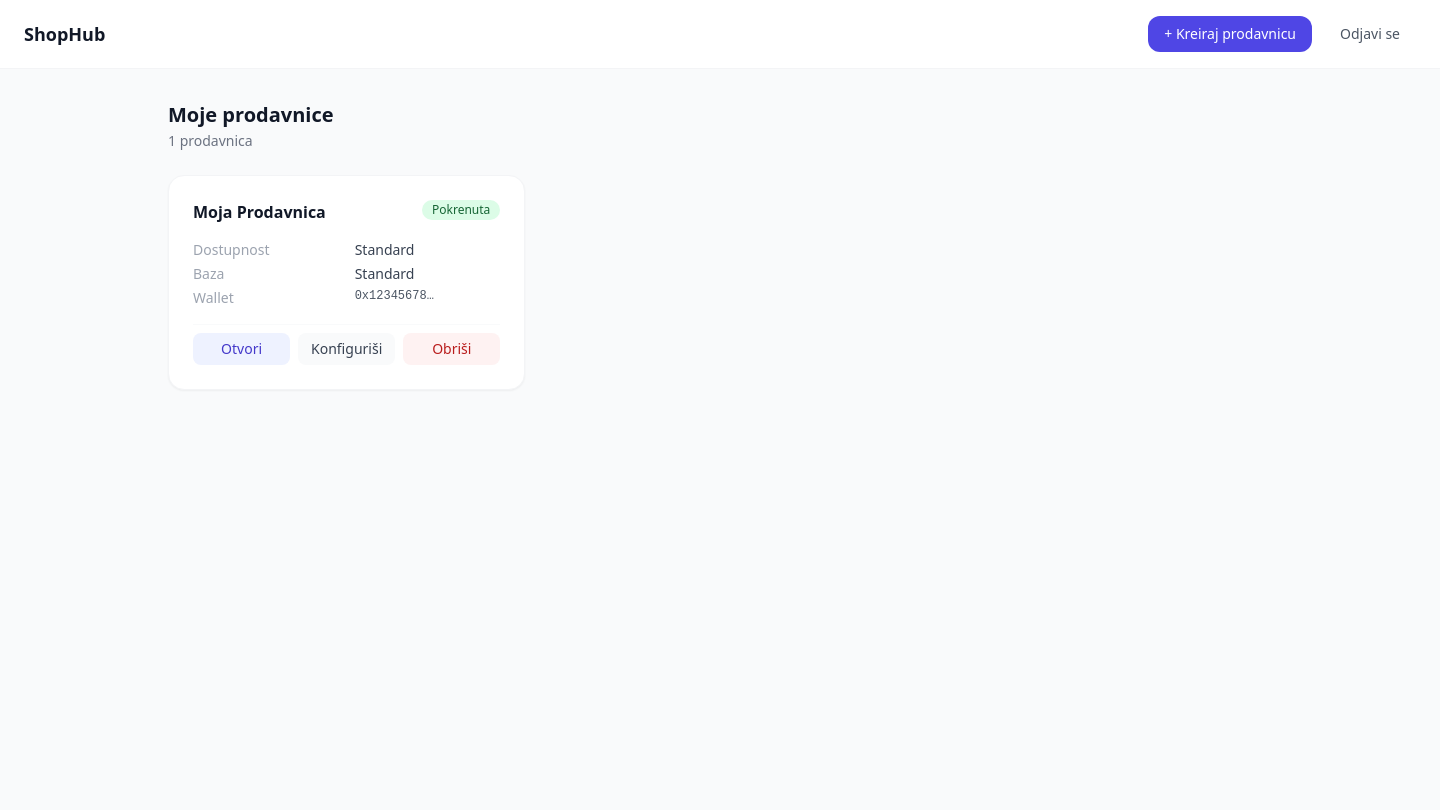
Test case: DashboardPage › opens delete modal when Obriši is clicked
Click the button "Obriši": (452, 349) [403, 333, 500, 365]
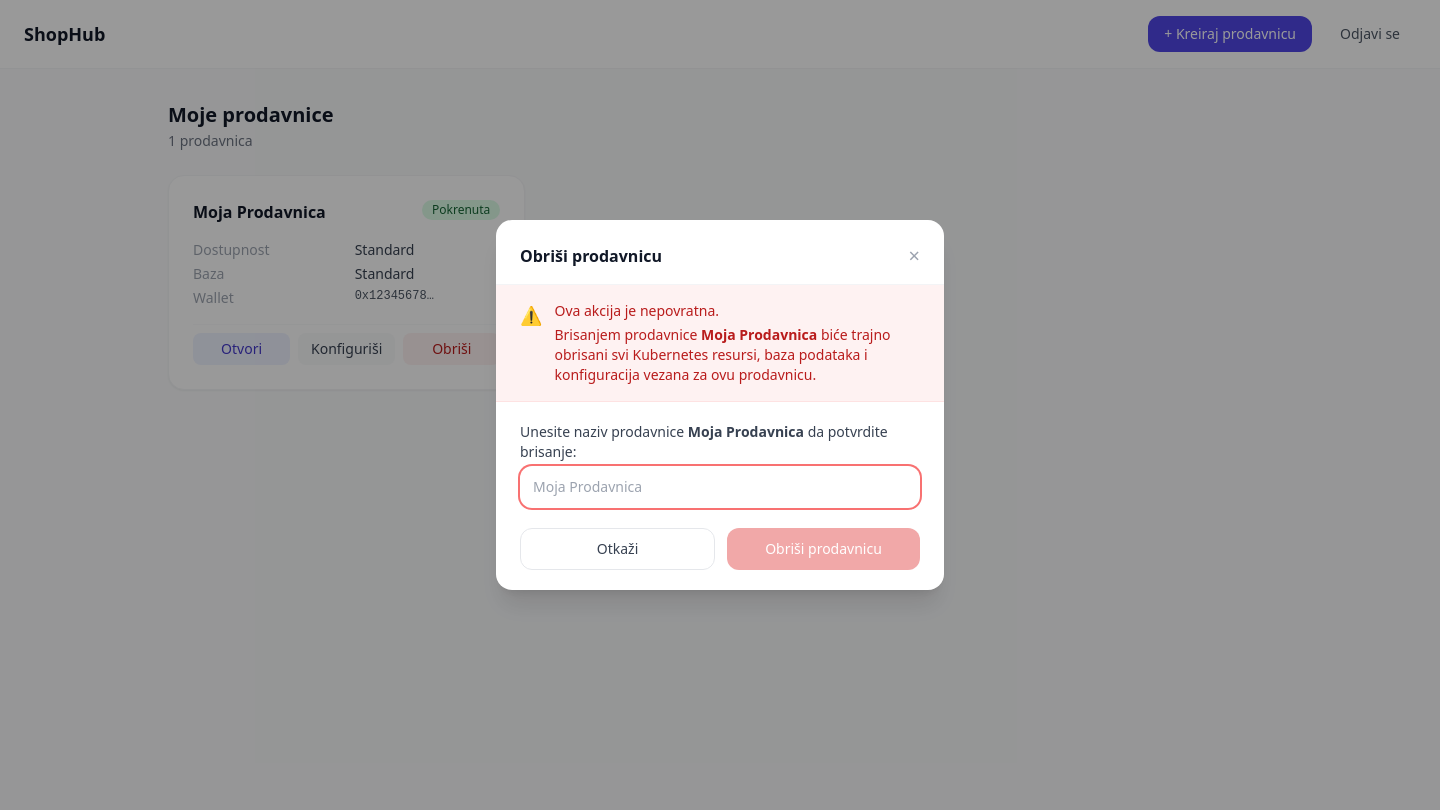
Now the heading "Obriši prodavnicu" is shown, box [520, 244, 662, 268]
Now the text "Ova akcija je nepovratna." is shown, box [554, 301, 719, 320]
